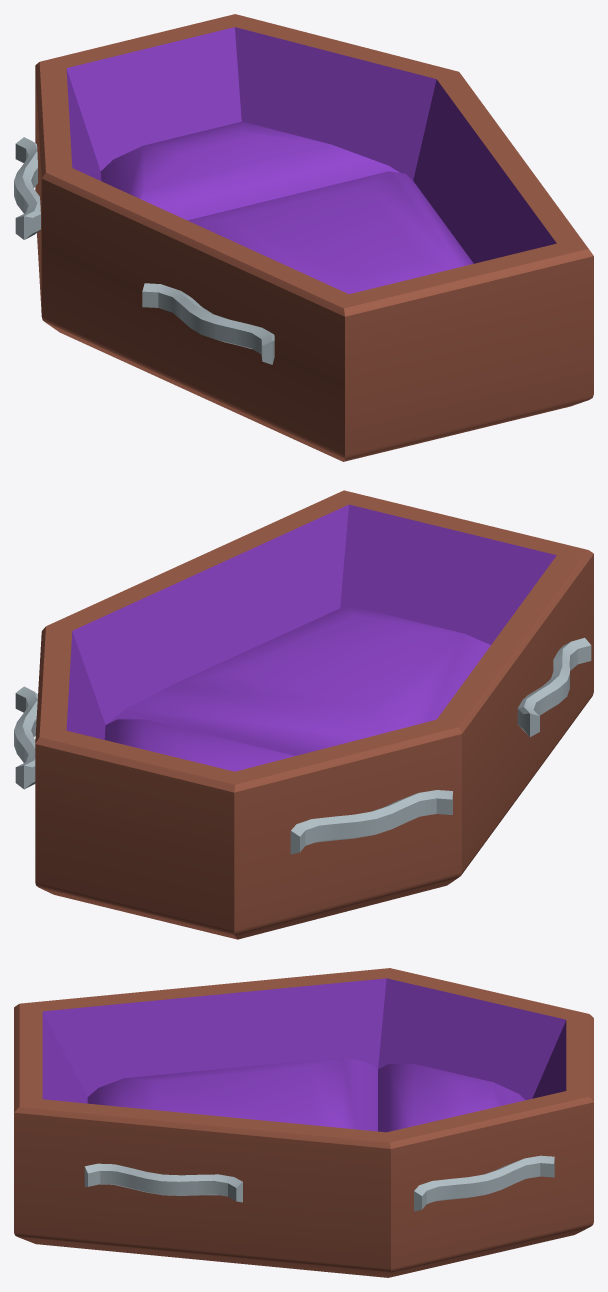
File: coffinA_bottom.gltf.glb
3 renders of one model, top to bottom at view 1: azimuth 30°, elevation 25°; view 2: azimuth 150°, elevation 25°; view 3: azimuth 270°, elevation 25°, orthographic. The views are drawn at different scales.
Parts seen in each view (by area): view 1: coffinA_bottom; view 2: coffinA_bottom; view 3: coffinA_bottom.
Boxes of the visible parts, left/top/right/bottom form: coffinA_bottom: left=14, top=14, right=593, bottom=461; coffinA_bottom: left=14, top=490, right=593, bottom=939; coffinA_bottom: left=14, top=968, right=593, bottom=1277.
Size of the model in its own units: 1.51 by 0.5355 by 2.
